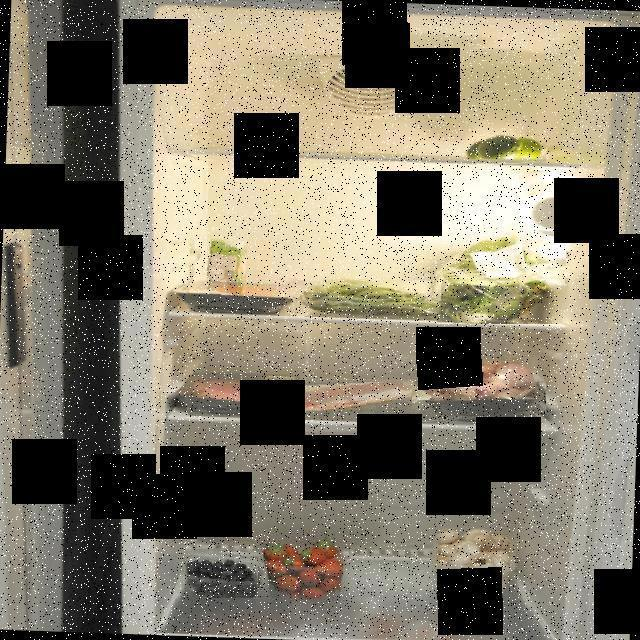beef: (185, 278, 294, 306)
blueberries: (182, 549, 258, 598)
chicken: (406, 358, 546, 423)
green_beans: (293, 268, 441, 316)
ground_beef: (187, 373, 293, 410)
ham: (296, 382, 412, 416)
heavy_cream: (207, 232, 247, 298)
lime: (462, 134, 546, 166)
mushrooms: (421, 526, 532, 601)
spinach: (432, 224, 567, 324)
strawberries: (254, 529, 350, 601)
